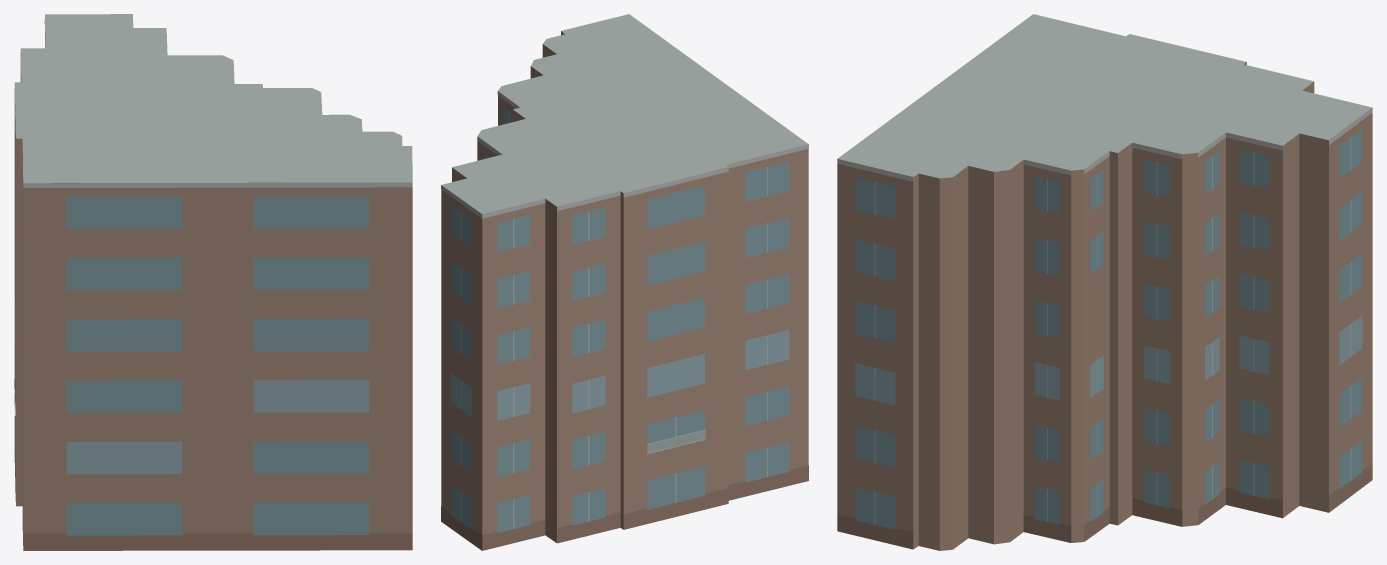
Rendered from survey-upis-32525090.glb.
3 views of the same model, side by side, from view 1: azimuth 30°, elevation 25°; view 2: azimuth 150°, elevation 25°; view 3: azimuth 270°, elevation 25° (orthographic). The views are drawn at different scales.
Parts seen in each view (by area): view 1: survey-upis-32525090.tmp; view 2: survey-upis-32525090.tmp; view 3: survey-upis-32525090.tmp.
Part boxes in pixels (x1=…): survey-upis-32525090.tmp: x1=14, y1=14, x2=412, y2=550; survey-upis-32525090.tmp: x1=441, y1=14, x2=808, y2=550; survey-upis-32525090.tmp: x1=837, y1=14, x2=1372, y2=550.
Size of the model in its own units: 17.33 by 18.3 by 23.84.
